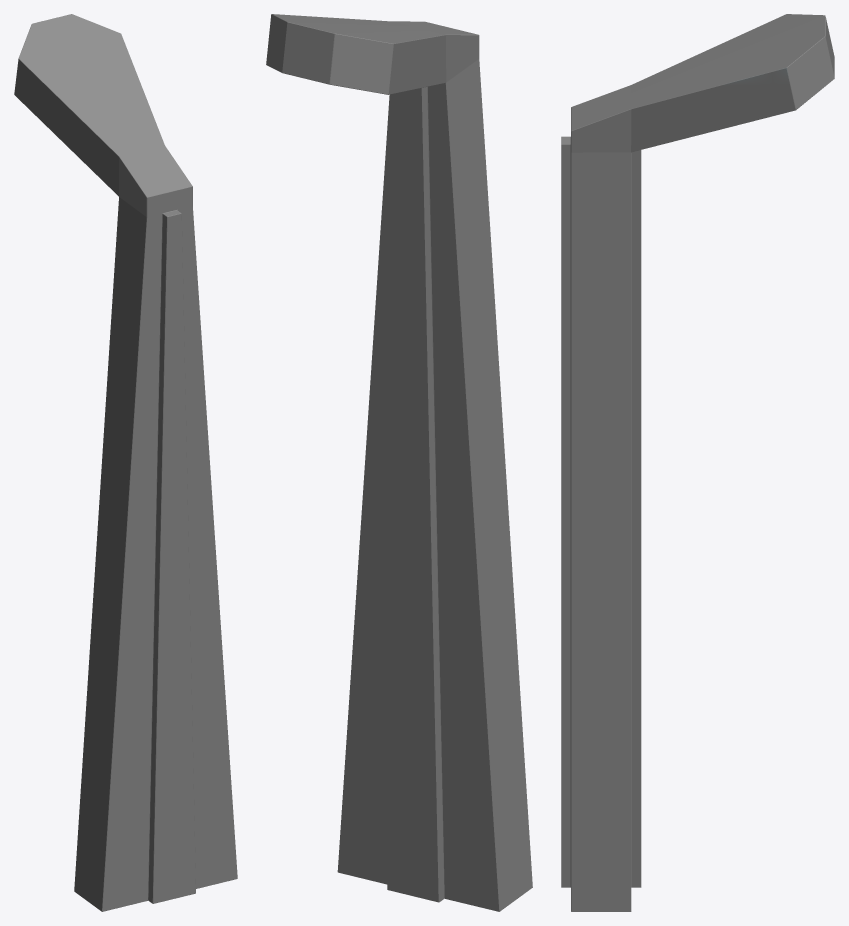
Rendered from SM_Flashlight.fbx.
3 views of the same model, side by side, from view 1: azimuth 30°, elevation 25°; view 2: azimuth 150°, elevation 25°; view 3: azimuth 270°, elevation 25° (orthographic). The views are drawn at different scales.
Visible parts, largest first — view 1: SM_Flashlight; view 2: SM_Flashlight; view 3: SM_Flashlight.
Boxes of the visible parts, bbox=[...] form: SM_Flashlight: bbox=[14, 14, 237, 911]; SM_Flashlight: bbox=[266, 14, 532, 911]; SM_Flashlight: bbox=[561, 14, 834, 911].
Bounding box in the file's own units: 90.09 × 146 × 501.
Materials: 1 (1 with a texture image).
